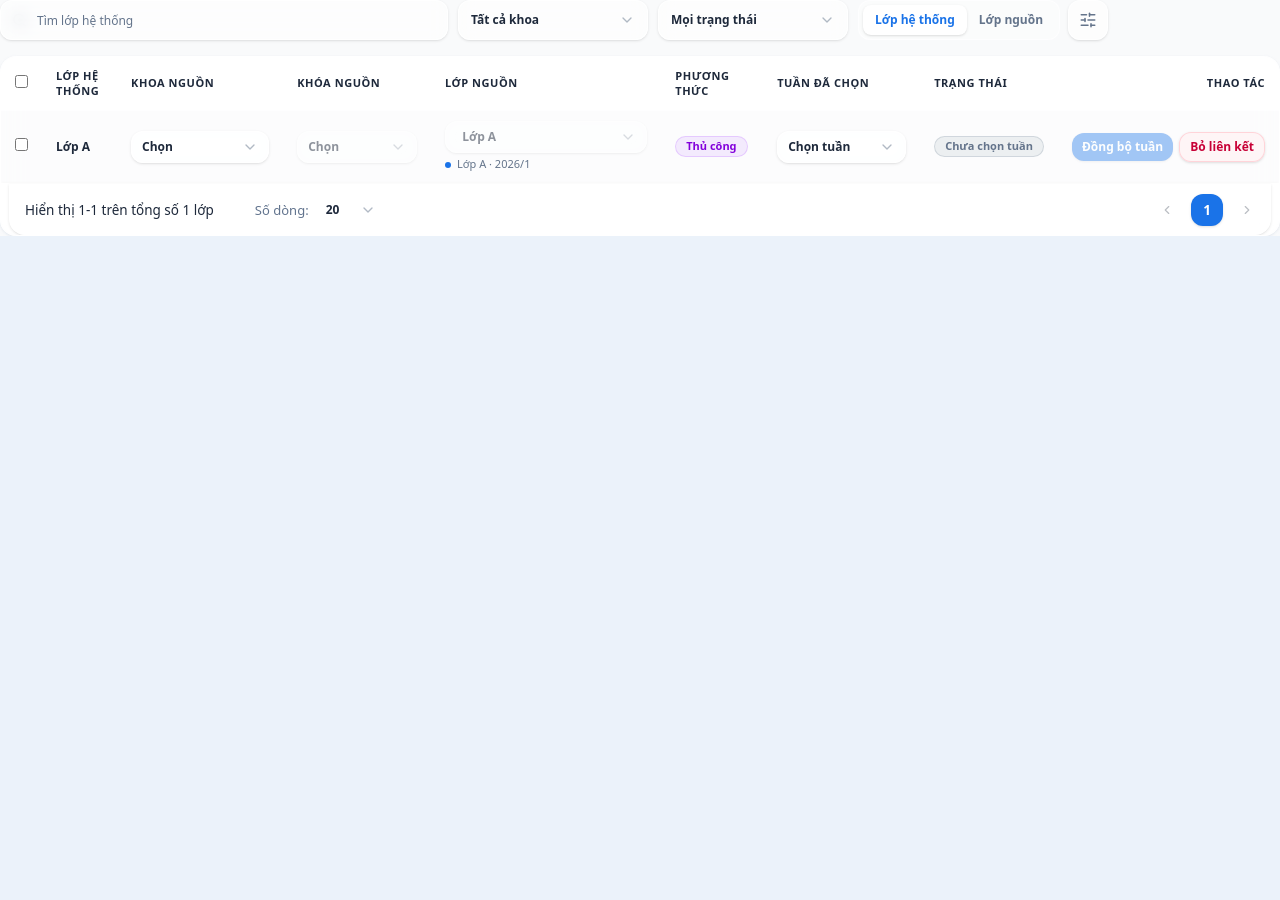
Scenario: TimetableSyncPanel › opens the single progress dialog before the request resolves and keeps it at 0%
Click the dropdown named "Tuần cho Lớp A". click: {"x": 830, "y": 147}
box: [788,139,871,155]
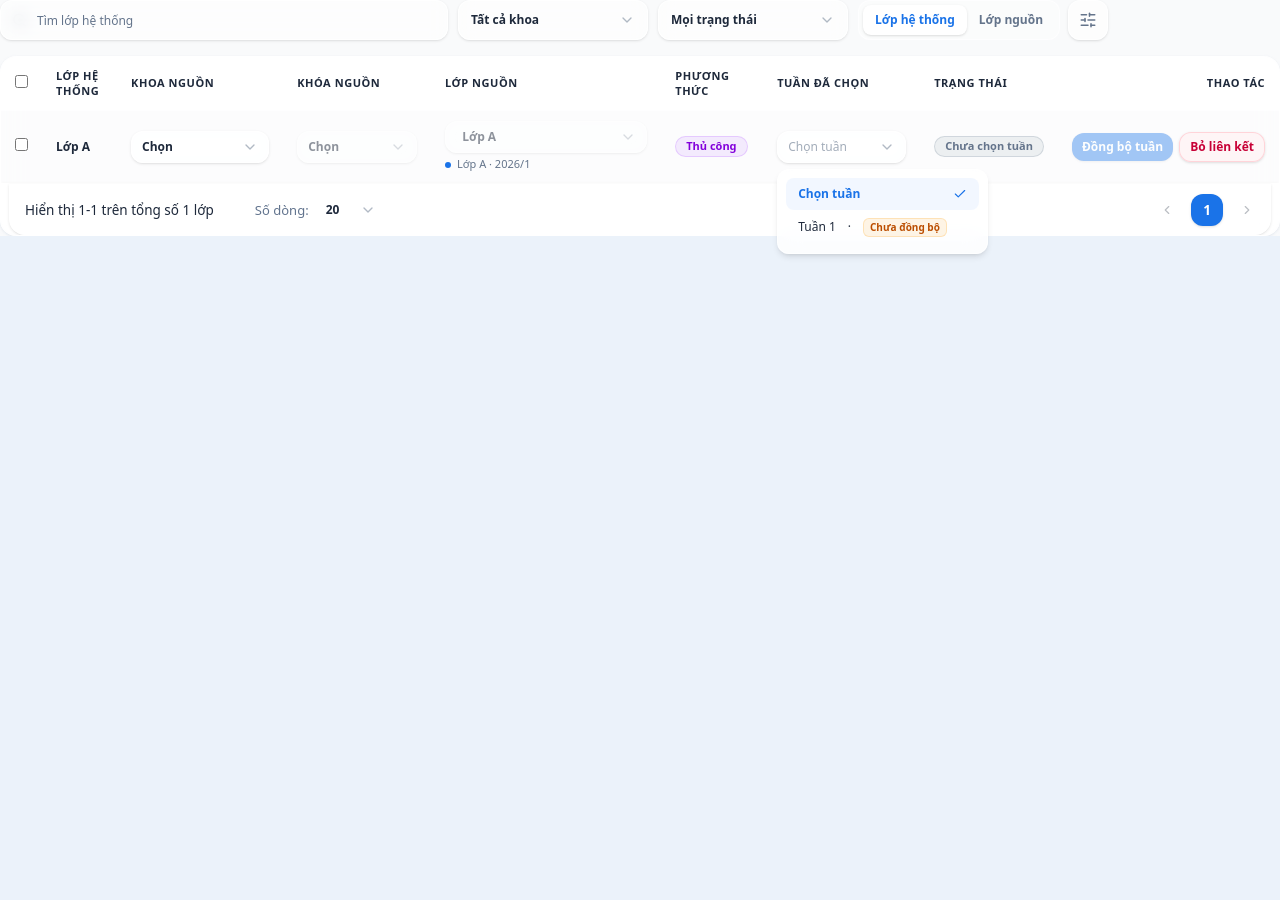
Click the option "Tuần 1 · Chưa đồng bộ". click: {"x": 873, "y": 227}
box: [798,218,947,237]
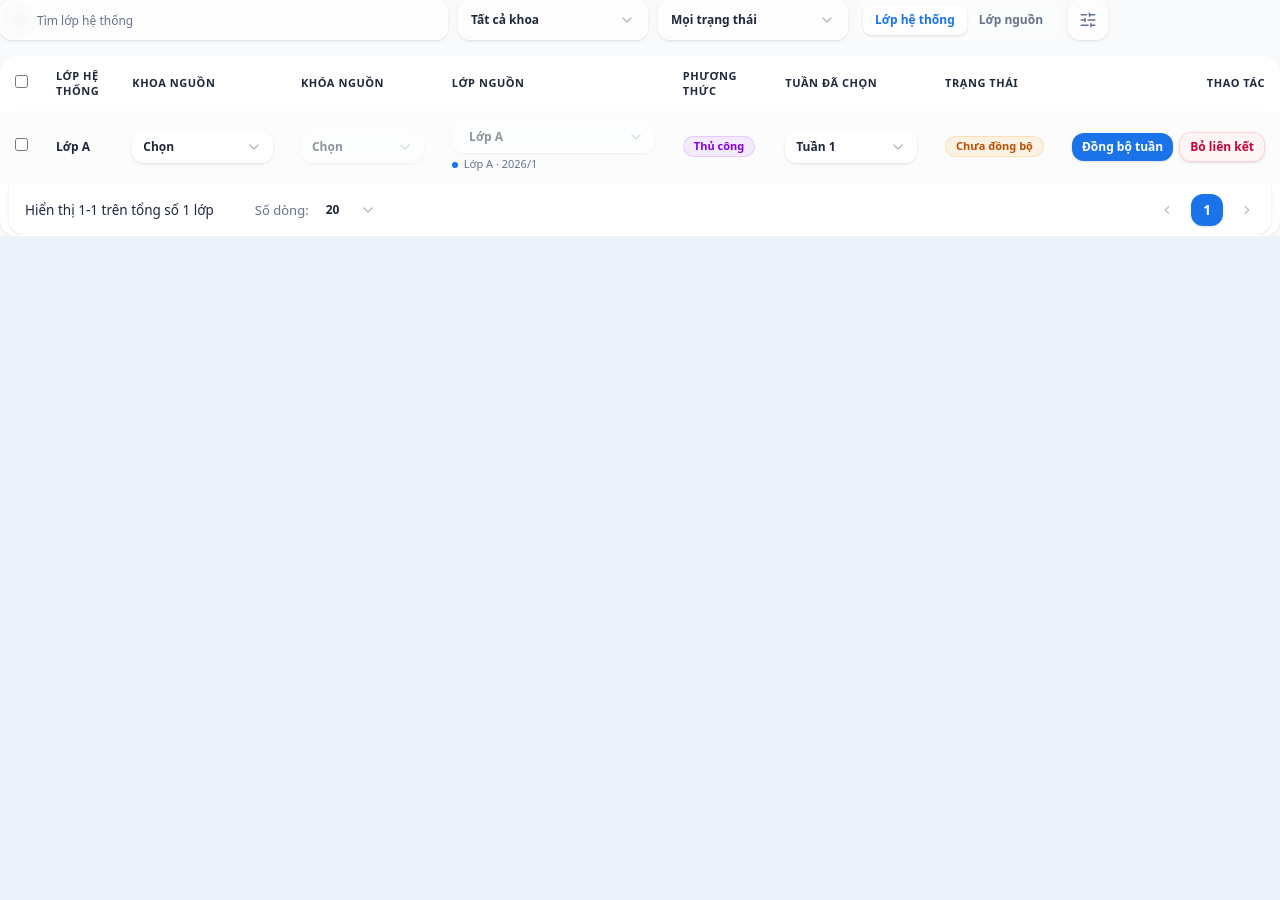
Click the button "Đồng bộ tuần". click: {"x": 1123, "y": 147}
box: [1072,133,1173,161]
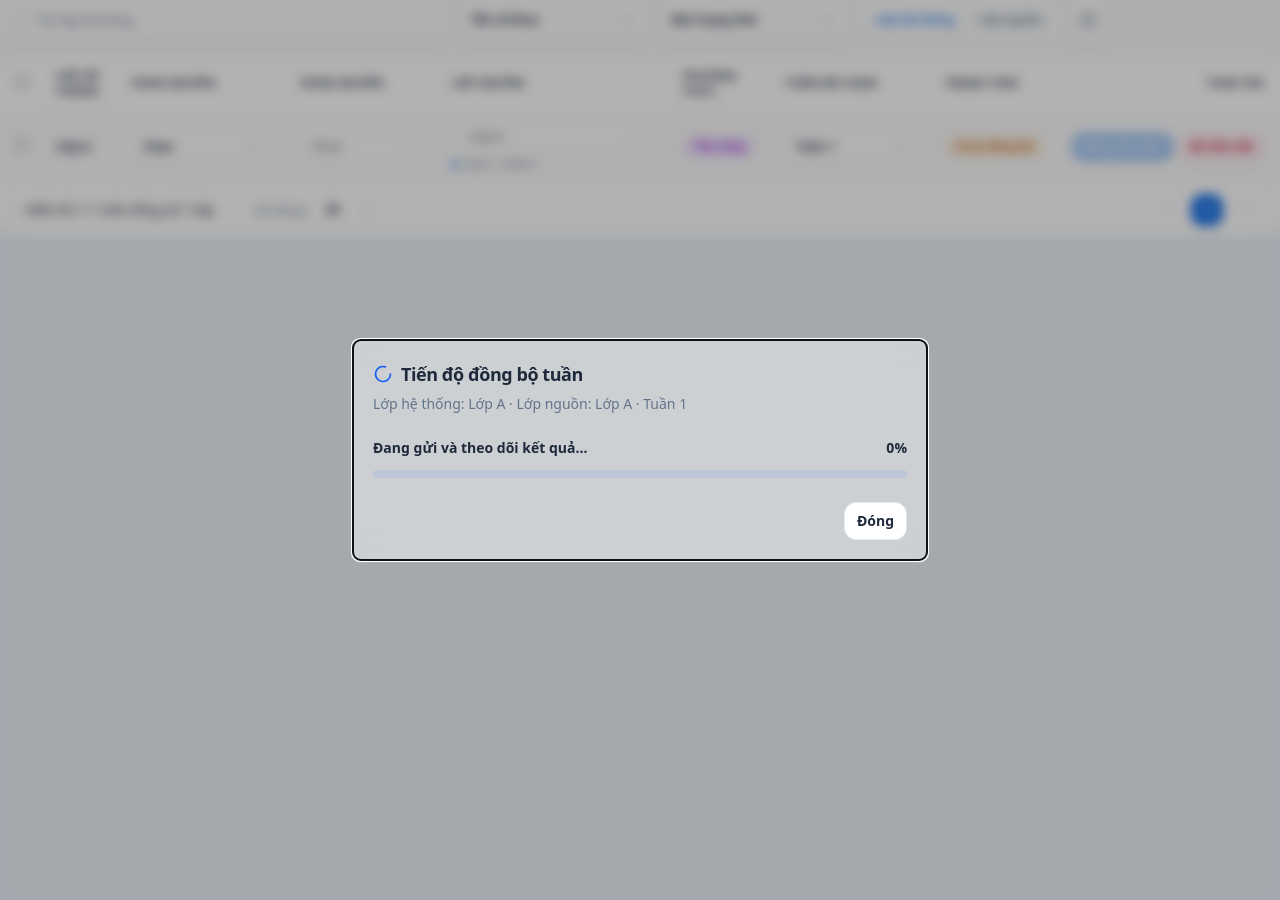
Expected: the dialog shows "Lớp hệ thống: Lớp A · Lớp nguồn: Lớp A · Tuần 1", [352,339,928,561]
